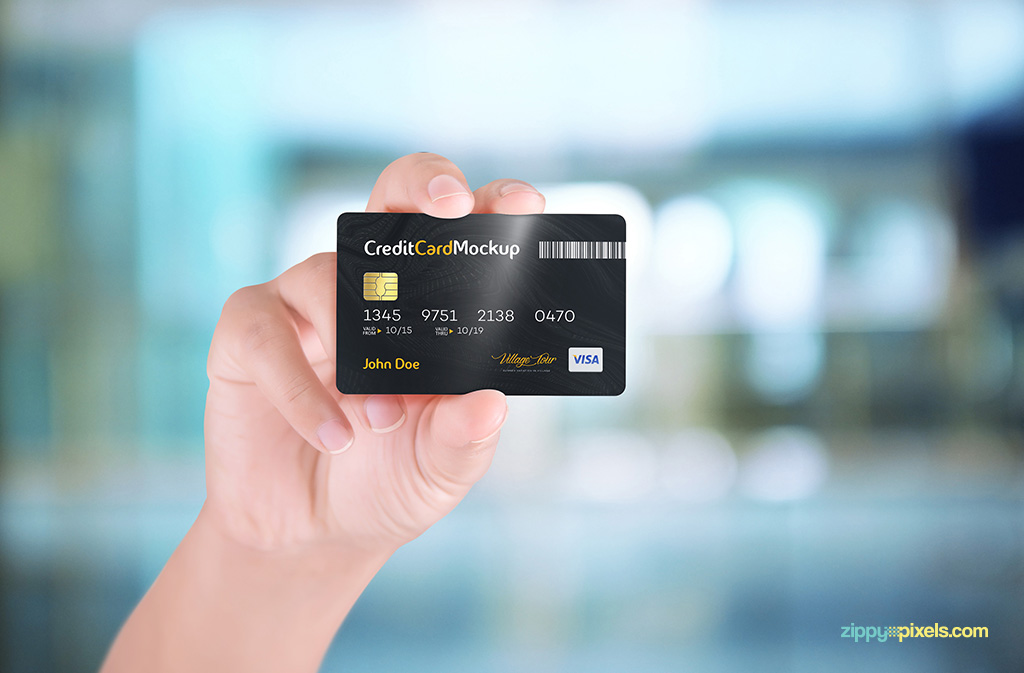tarjeta: (334, 210, 629, 398)
